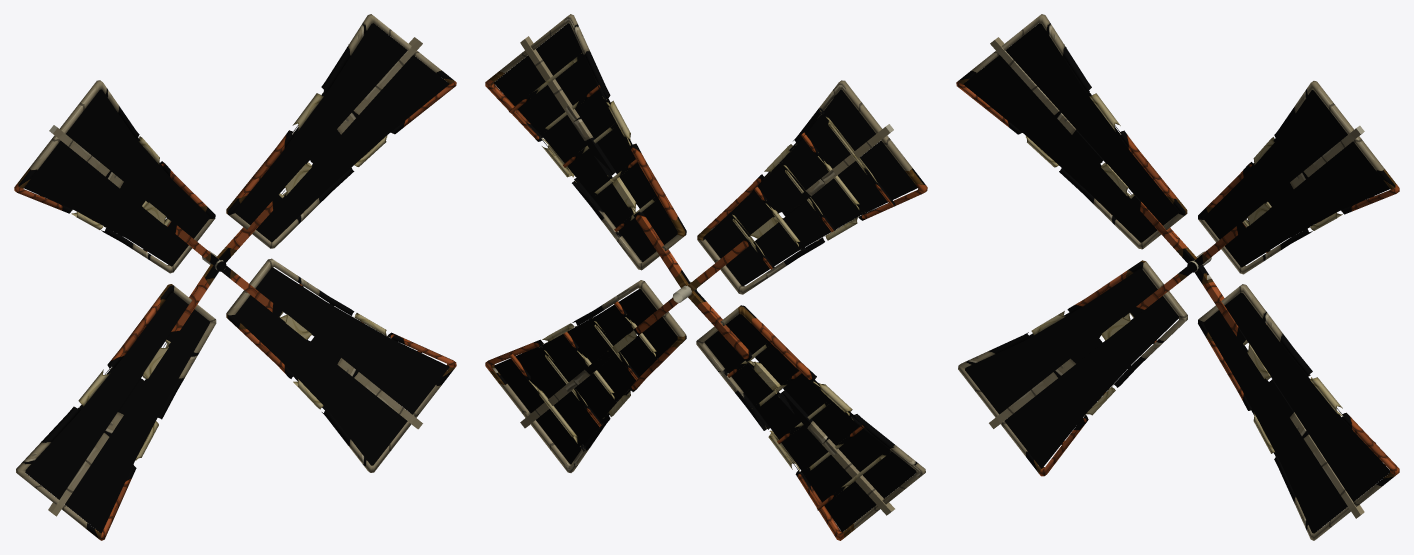
The model's file is Mill_wings.FBX.
3 views of the same model, side by side, from view 1: azimuth 30°, elevation 25°; view 2: azimuth 150°, elevation 25°; view 3: azimuth 330°, elevation 25° (orthographic).
Parts seen in each view (by area): view 1: Mill_wings; view 2: Mill_wings; view 3: Mill_wings.
Part boxes in pixels (x1,y1,x2,y2): Mill_wings: (14, 14, 456, 540); Mill_wings: (485, 14, 927, 540); Mill_wings: (956, 14, 1399, 540).
Size of the model in its own units: 8.7 by 8.67 by 1.07.
